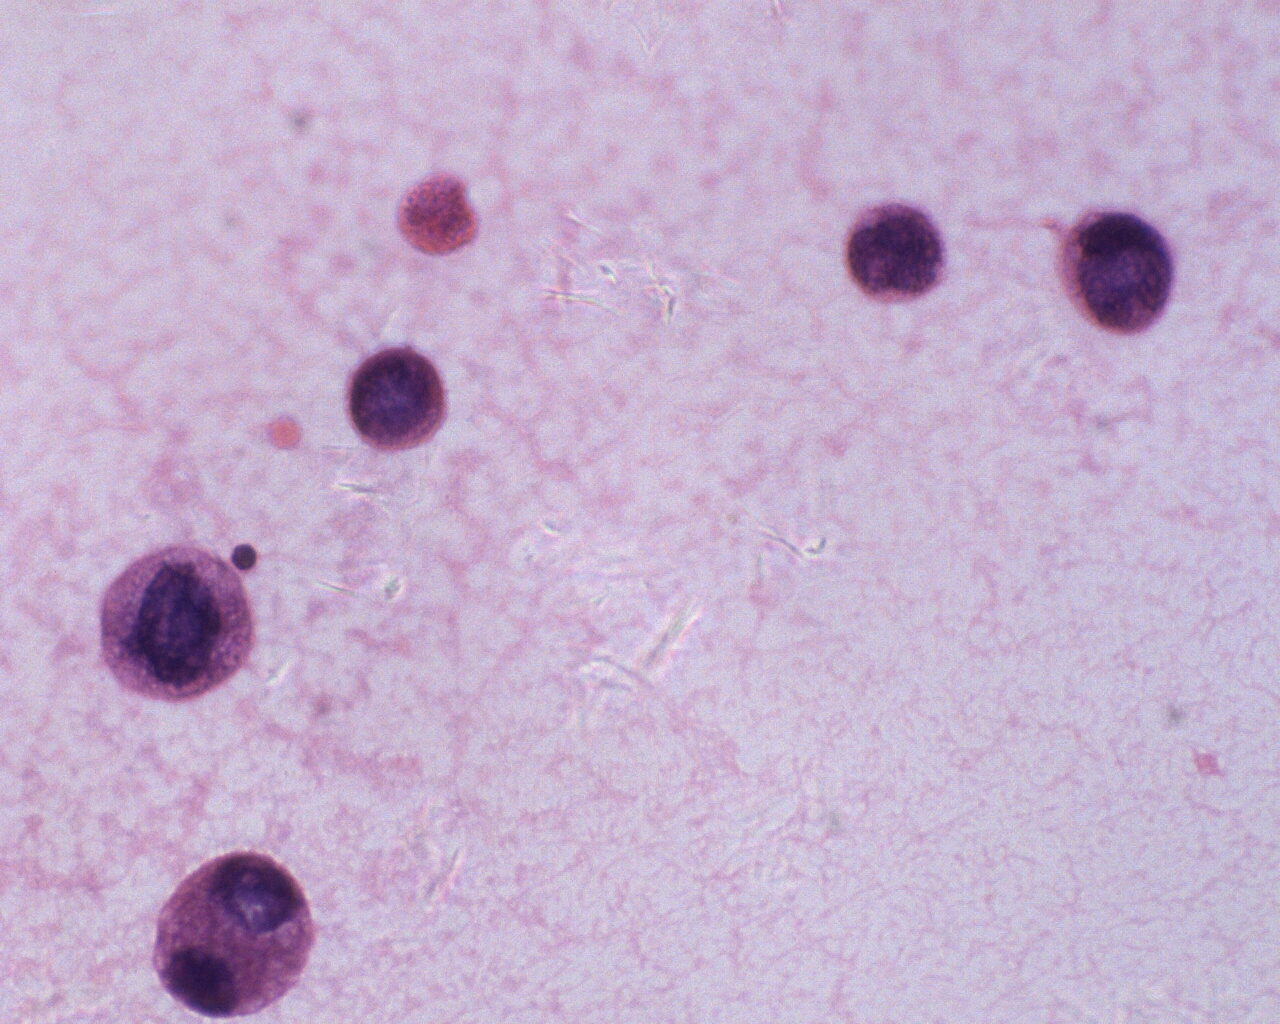ab: (97, 541, 254, 704), (1060, 209, 1176, 343), (839, 197, 949, 307), (345, 345, 449, 460)
lymph: (226, 537, 263, 576)
meso: (140, 848, 319, 1019)
